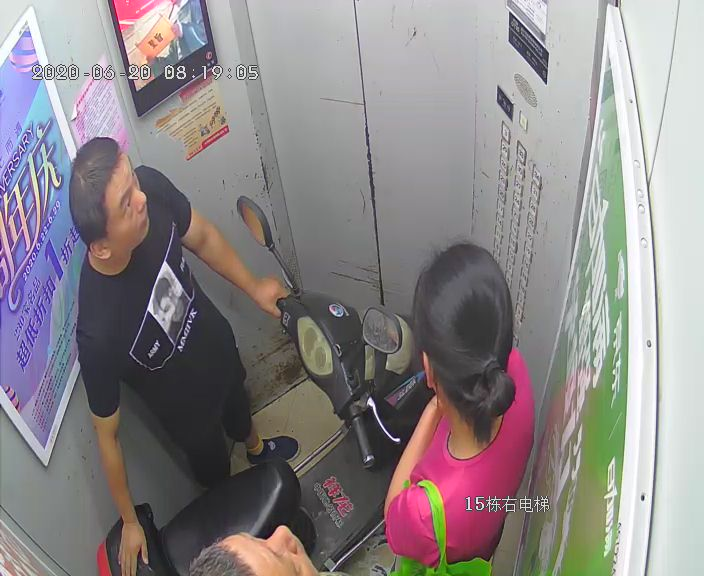Electric-bicycle: (103, 196, 410, 575)
